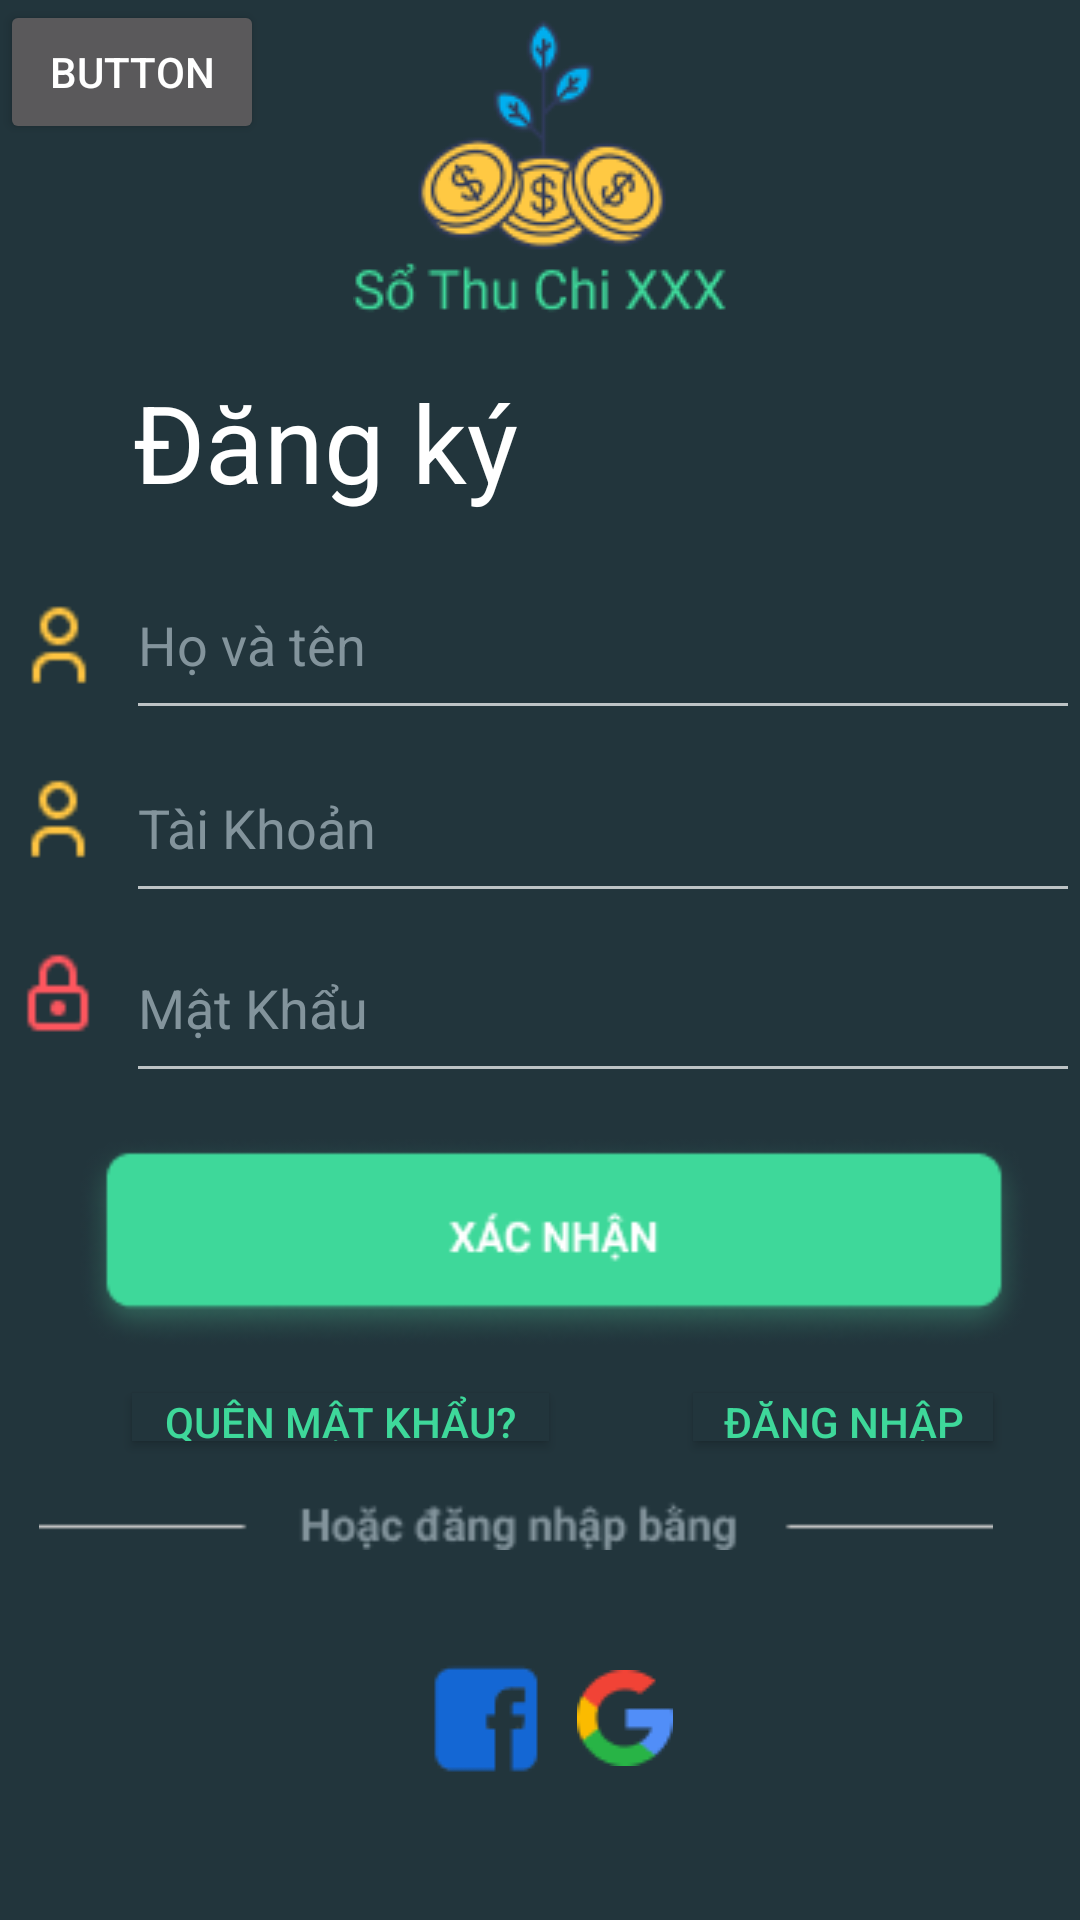

Locate icon controls on the screen. Image size 1080 x 1920, boxes as (left=x1, top=y1, right=x2, bottom=y2).
iconpass: (left=27, top=954, right=89, bottom=1032)
profiledangnhap: (left=31, top=606, right=87, bottom=684), (left=30, top=780, right=86, bottom=858)
